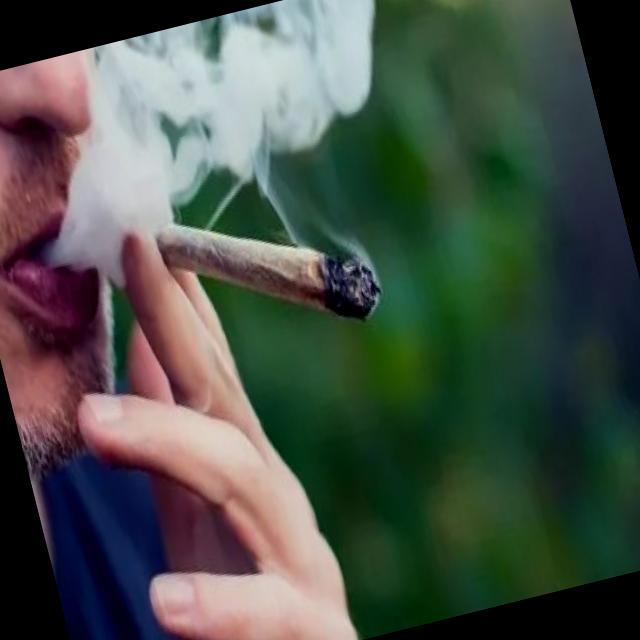cigarette: (140, 153, 391, 364)
